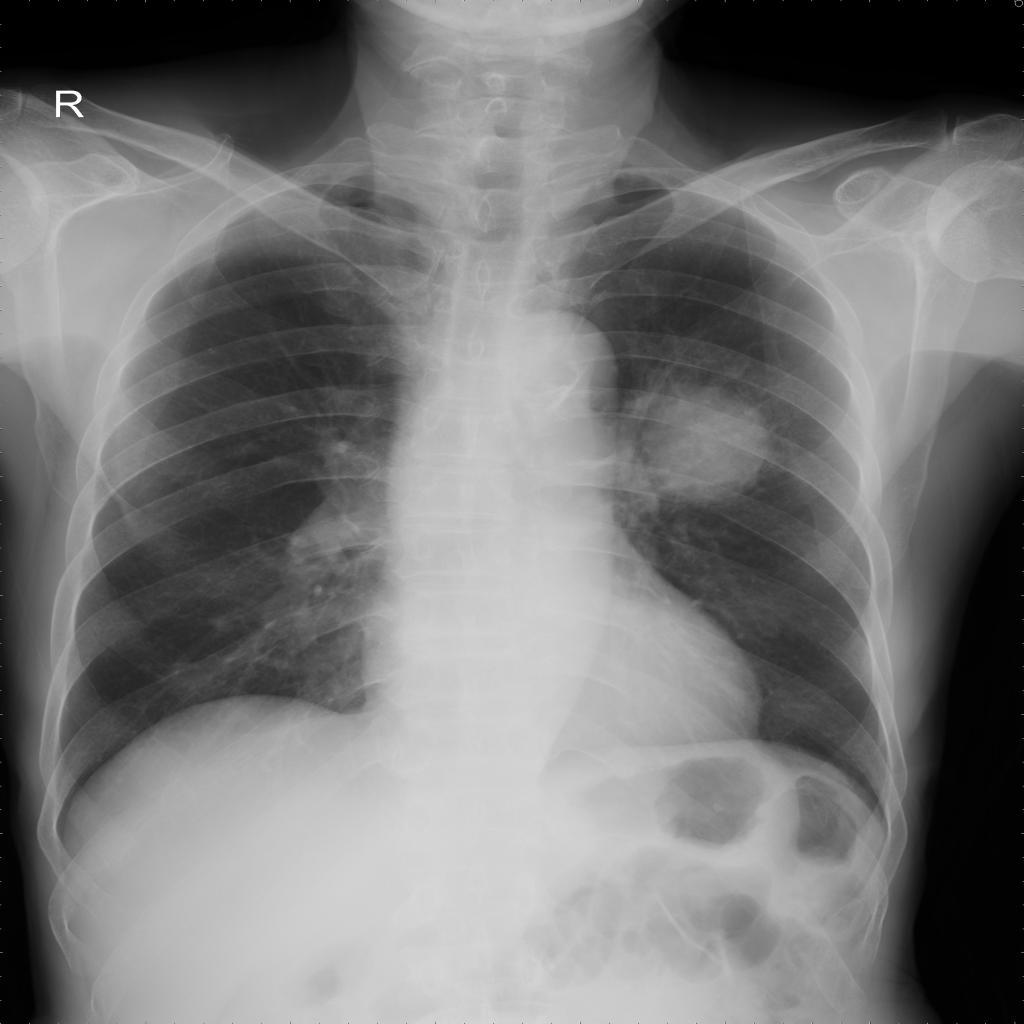Nodule: (637, 391, 771, 497)
